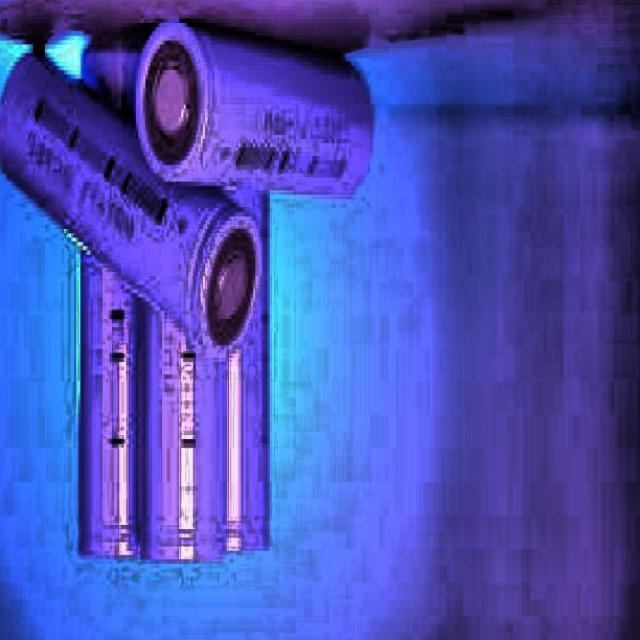battery: (0, 57, 267, 358), (90, 23, 370, 199)
